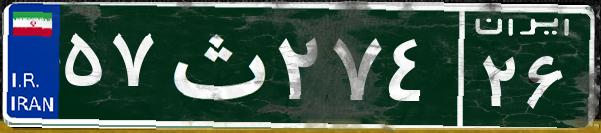2: (273, 28, 330, 110), (475, 38, 525, 113)
4: (385, 28, 445, 110)
5: (57, 26, 110, 107)
6: (525, 38, 570, 115)
7: (330, 28, 385, 110), (110, 28, 158, 105)
ث: (158, 15, 273, 115)
